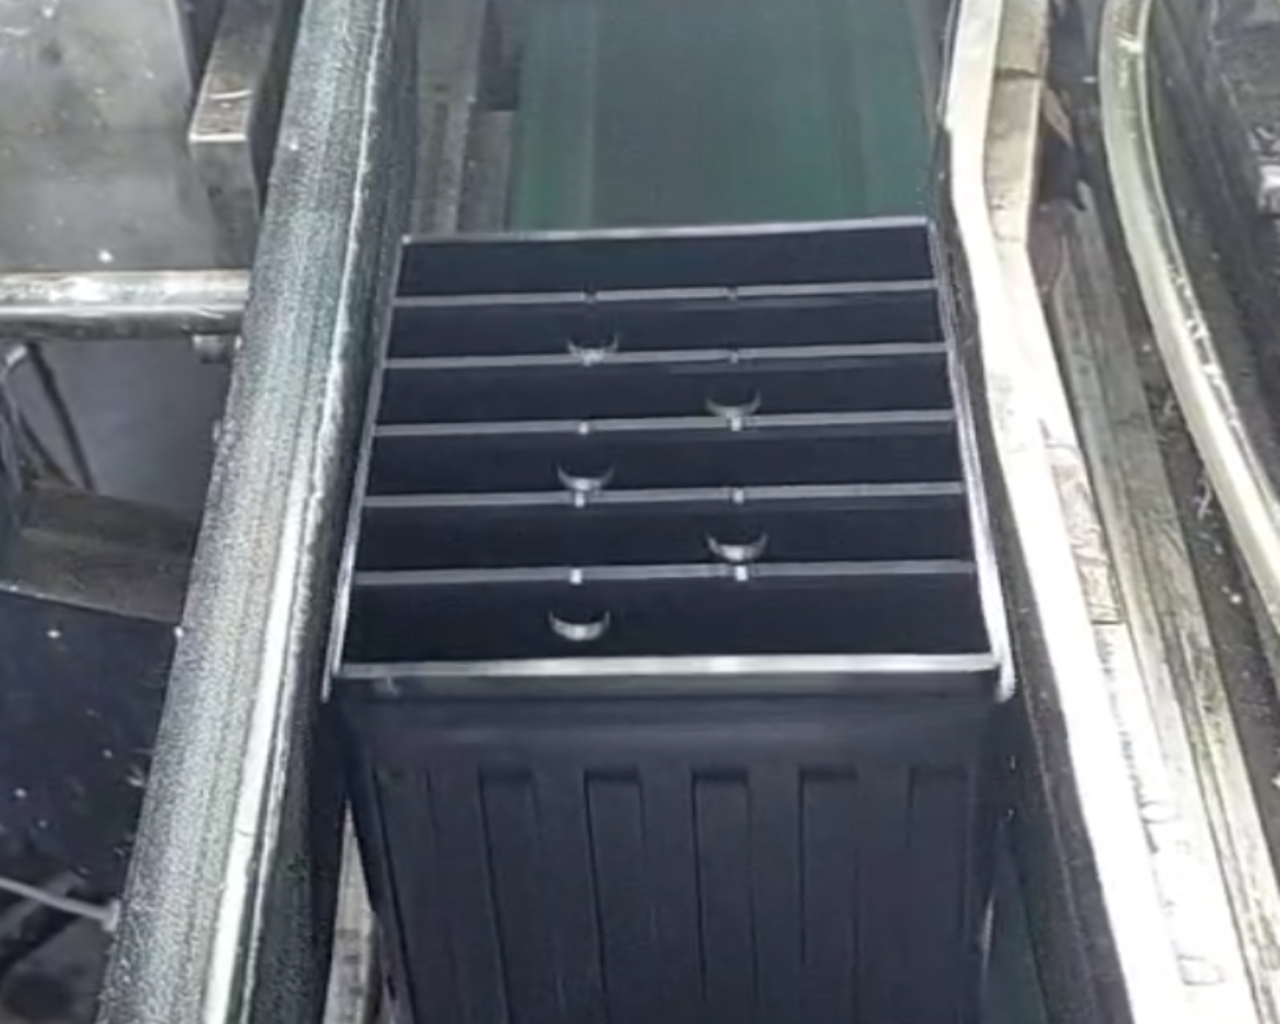box: (307, 197, 1035, 718)
round: (691, 509, 782, 569), (535, 587, 622, 649), (546, 445, 630, 498), (691, 372, 769, 422), (556, 312, 628, 362)
